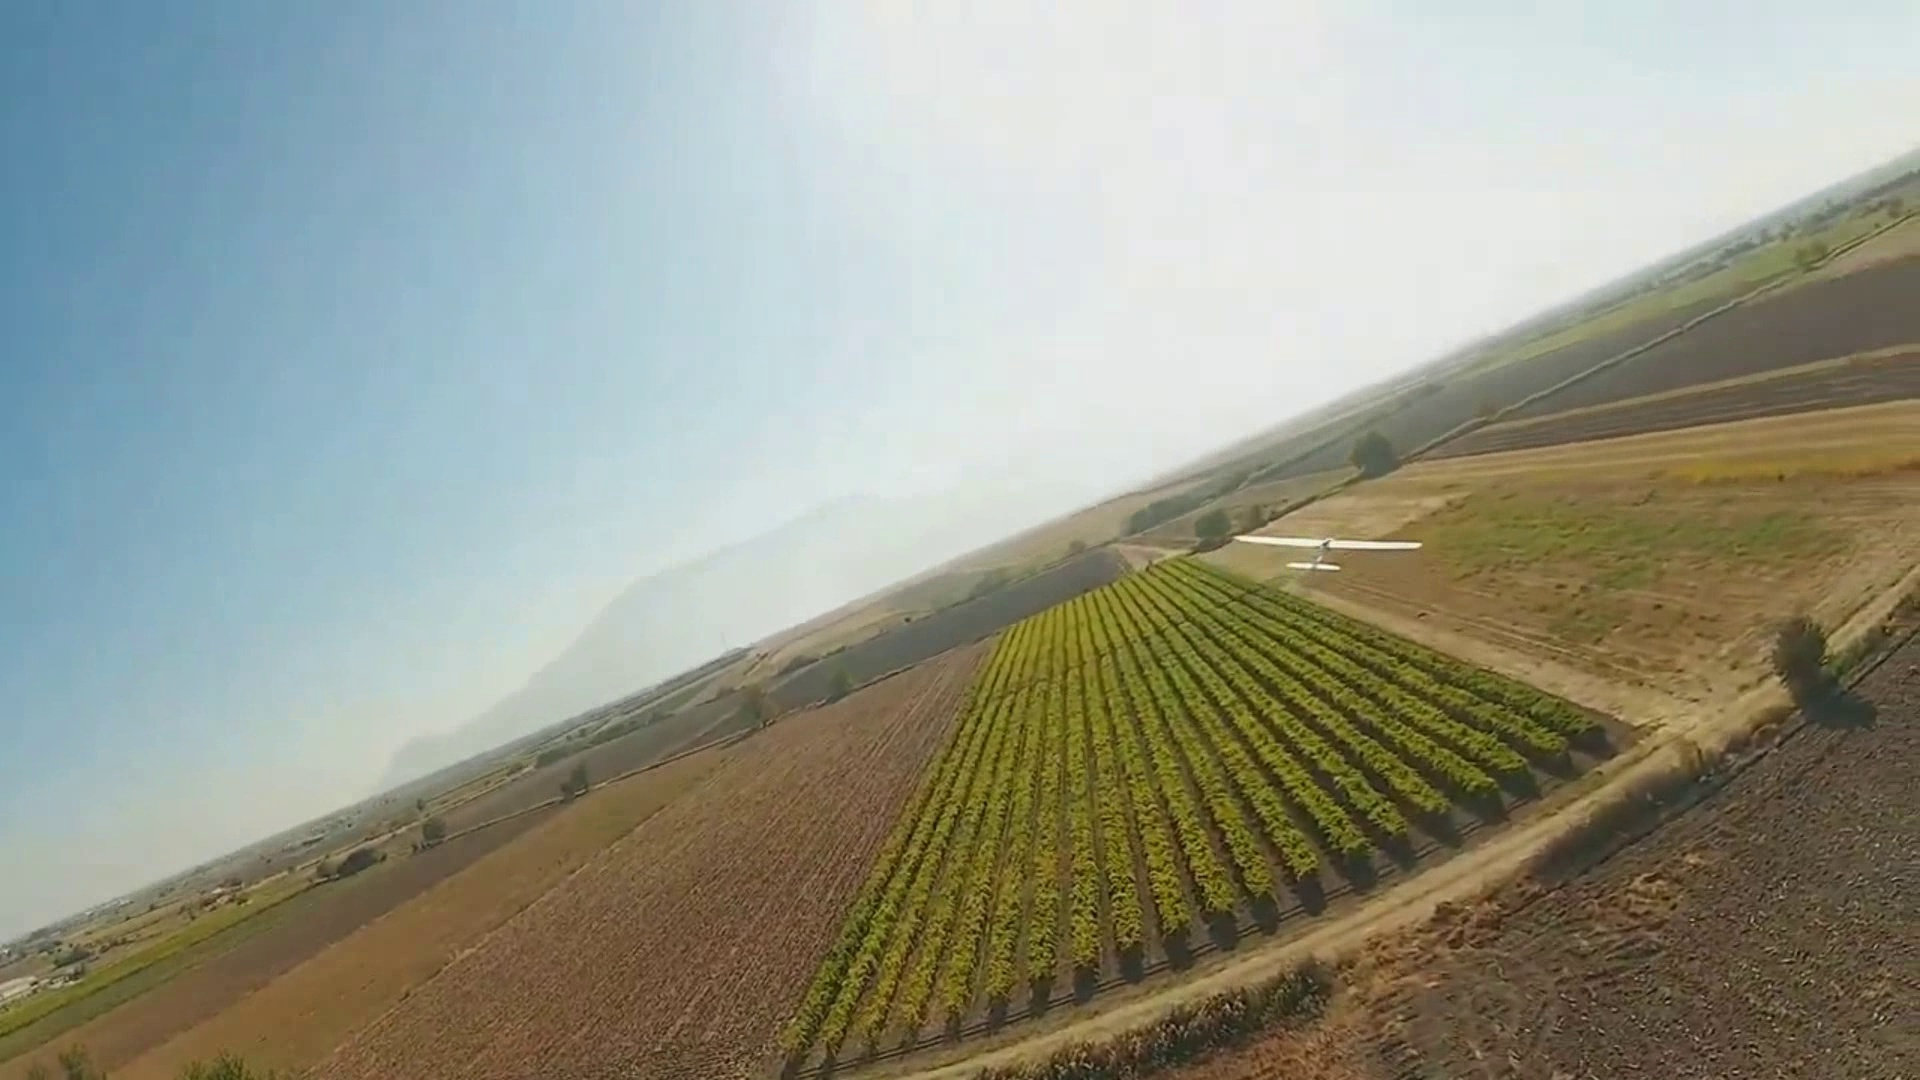airplane: (21, 154, 1919, 1033)
